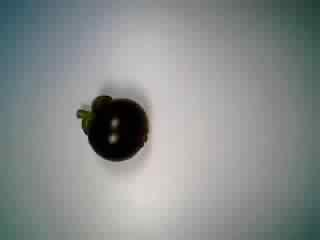mangosteen: (70, 90, 154, 164)
